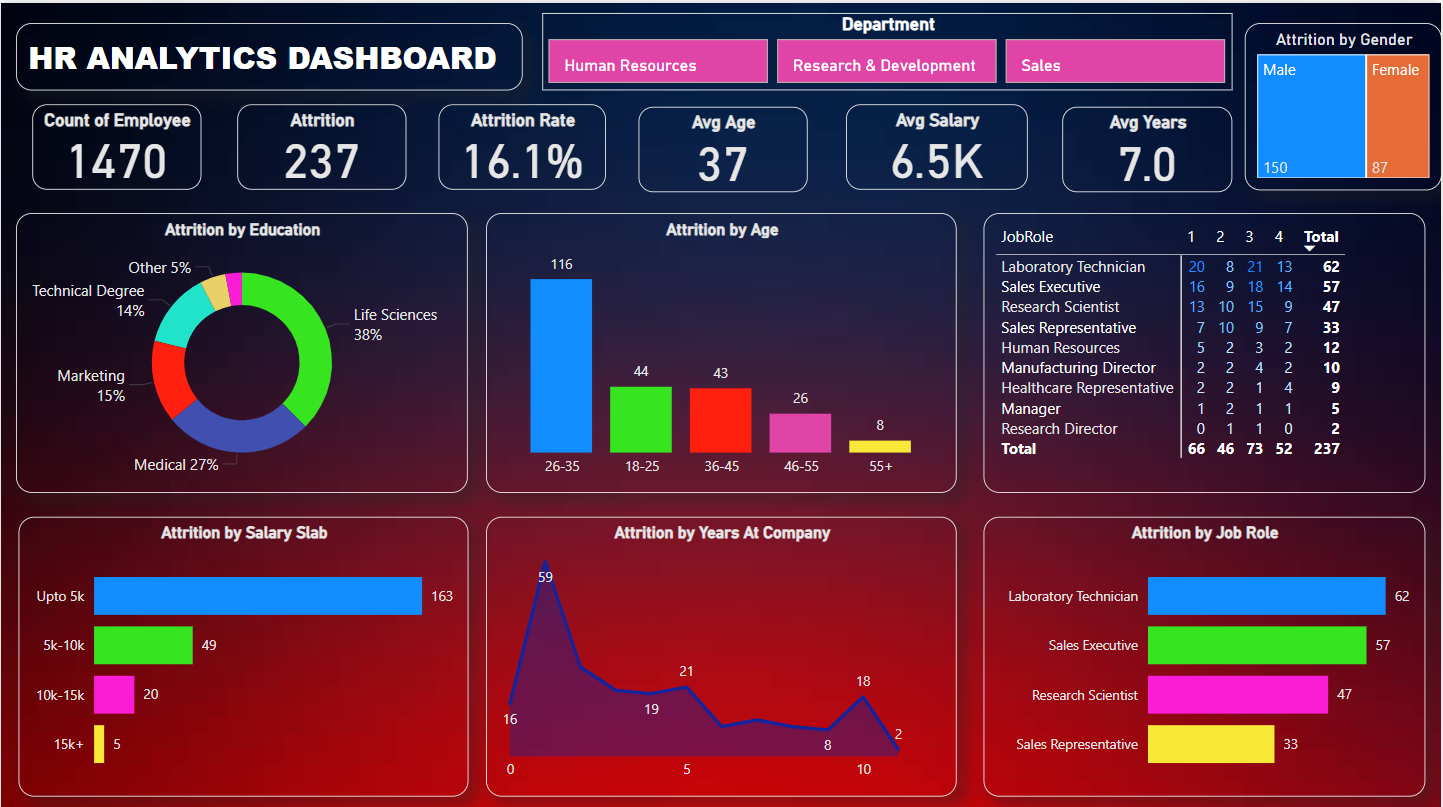

The dashboard page shown, as its layout file describes it:
{"tool":"powerbi","page":{"name":"Page 1","canvas":[1280,720],"ordinal":0},"visuals":[{"type":"card","title":"Count of Employee","fields":{"Values":["CountNonNull(HR_Analytics.EmpID)"]},"box":[27.5,90,150,76.2],"z":0},{"type":"card","title":"Attrition","fields":{"Values":["Sum(HR_Analytics.AttritionCount)"]},"box":[210,90,150,76.2],"z":1000},{"type":"card","title":"Attrition Rate","fields":{"Values":["HR_Analytics.AttritionRate"]},"box":[388.8,90,148.8,76.2],"z":2000},{"type":"card","title":"Avg Age","fields":{"Values":["Avg(HR_Analytics.Age)"]},"box":[566.2,92.5,150,76.2],"z":3000},{"type":"card","title":"Avg Salary","fields":{"Values":["Avg(HR_Analytics.MonthlyIncome)"]},"box":[751.2,90,161.2,76.2],"z":4000},{"type":"card","title":"Avg Years","fields":{"Values":["Avg(HR_Analytics.YearsAtCompany)"]},"box":[943.8,92.5,151.2,76.2],"z":5000},{"type":"donutChart","title":"Attrition by Education","fields":{"Category":["HR_Analytics.EducationField"],"Y":["Sum(HR_Analytics.AttritionCount)"]},"box":[13.8,186.2,401.2,248.8],"z":6000},{"type":"columnChart","title":"Attrition by Age","fields":{"Category":["HR_Analytics.AgeGroup"],"Y":["Sum(HR_Analytics.AttritionCount)"]},"box":[431.2,186.2,418.8,248.8],"z":7000},{"type":"pivotTable","fields":{"Rows":["HR_Analytics.JobRole"],"Columns":["HR_Analytics.JobSatisfaction"],"Values":["Sum(HR_Analytics.AttritionCount)"]},"box":[873.8,186.2,392.5,248.8],"z":8000},{"type":"barChart","title":"Attrition by Salary Slab","fields":{"Category":["HR_Analytics.SalarySlab"],"Y":["Sum(HR_Analytics.AttritionCount)"]},"box":[15,456.2,400,248.8],"z":9000},{"type":"barChart","title":"Attrition by Job Role","fields":{"Y":["Sum(HR_Analytics.AttritionCount)"],"Category":["HR_Analytics.JobRole"]},"box":[873.8,456.2,392.5,248.8],"z":10000},{"type":"areaChart","title":"Attrition by Years At Company","fields":{"Category":["HR_Analytics.YearsAtCompany"],"Y":["Sum(HR_Analytics.AttritionCount)"]},"box":[431.2,456.2,418.8,248.8],"z":11000},{"type":"treemap","title":"Attrition by Gender","fields":{"Group":["HR_Analytics.Gender"],"Values":["Sum(HR_Analytics.AttritionCount)"]},"box":[1105,17.5,175,148.8],"z":12000},{"type":"advancedSlicerVisual","fields":{"Values":["HR_Analytics.Department"]},"box":[481.2,8.8,613.8,68.8],"z":13000},{"type":"textbox","box":[13.8,17.5,450,60],"z":14000}]}

Visuals, with their boxes in screenshot pixels (x1, y1, x2, y2), scaled from the page's 1280x720 canvas onto the 1443x807 screenshot:
"Count of Employee" card: [31,101,200,186]
"Attrition" card: [237,101,406,186]
"Attrition Rate" card: [438,101,606,186]
"Avg Age" card: [638,104,807,189]
"Avg Salary" card: [847,101,1029,186]
"Avg Years" card: [1064,104,1234,189]
"Attrition by Education" donutChart: [16,209,468,488]
"Attrition by Age" columnChart: [486,209,958,488]
pivotTable - HR_Analytics.JobRole x HR_Analytics.JobSatisfaction: [985,209,1428,488]
"Attrition by Salary Slab" barChart: [17,511,468,790]
"Attrition by Job Role" barChart: [985,511,1428,790]
"Attrition by Years At Company" areaChart: [486,511,958,790]
"Attrition by Gender" treemap: [1246,20,1442,186]
advancedSlicerVisual - HR_Analytics.Department: [542,10,1234,87]
textbox: [16,20,523,87]
